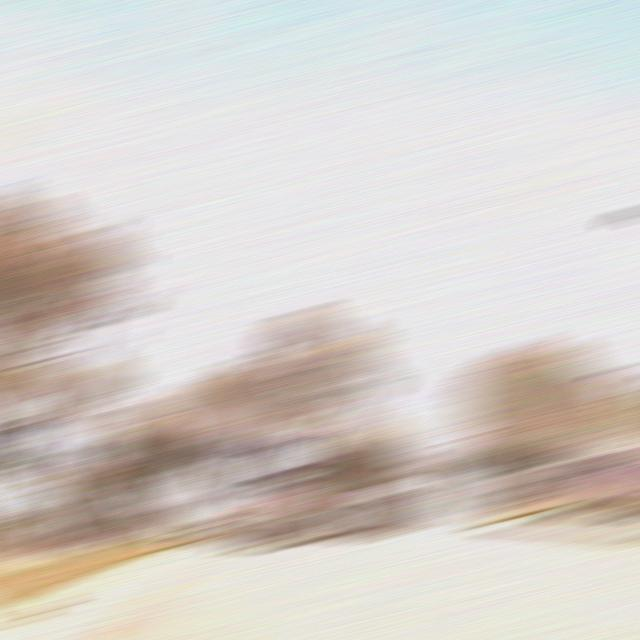stop: (546, 400, 590, 428)
